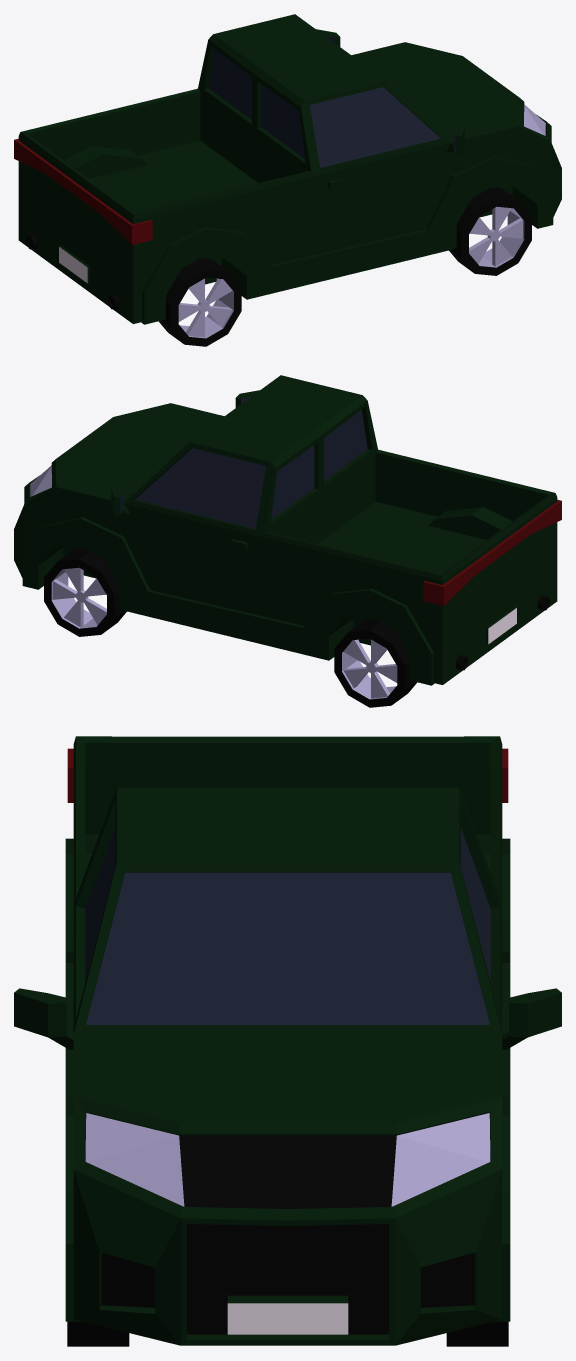
File: pickup.glb
3 renders of one model, top to bottom at view 1: azimuth 30°, elevation 25°; view 2: azimuth 150°, elevation 25°; view 3: azimuth 270°, elevation 25°, orthographic. The views are drawn at different scales.
Visible parts, largest first — view 1: body_paint, body_glass, wheel_fr_tire (×2), wheel_rr_tire (×2), body_tail, wheel_rr_rim (×2), wheel_fr_rim, body_chrome; view 2: body_paint, body_glass, wheel_fl_tire (×2), wheel_rl_tire (×2), body_tail, wheel_rl_rim (×2), wheel_fl_rim, body_chrome; view 3: body_paint, body_glass, body_trim, body_lamp, body_chrome, wheel_fr_tire, wheel_fl_tire, body_tail.
Part boxes in pixels (x1,y1,x2,y2): body_paint: [18, 14, 561, 324]; body_glass: [208, 35, 455, 167]; wheel_fr_tire (×2): [449, 187, 531, 275]; wheel_rr_tire (×2): [159, 258, 241, 346]; body_tail: [14, 138, 152, 244]; wheel_rr_rim (×2): [178, 278, 233, 338]; wheel_fr_rim: [469, 206, 524, 267]; body_chrome: [59, 247, 87, 283]; body_paint: [14, 375, 557, 685]; body_glass: [120, 396, 367, 528]; wheel_fl_tire (×2): [44, 548, 126, 636]; wheel_rl_tire (×2): [334, 619, 416, 707]; body_tail: [423, 499, 561, 605]; wheel_rl_rim (×2): [342, 639, 397, 699]; wheel_fl_rim: [51, 567, 106, 628]; body_chrome: [488, 608, 516, 644]; body_paint: [14, 736, 561, 1345]; body_glass: [85, 828, 490, 1024]; body_trim: [101, 1135, 474, 1334]; body_lamp: [85, 1113, 490, 1206]; body_chrome: [227, 1303, 348, 1334]; wheel_fr_tire: [67, 1321, 129, 1346]; wheel_fl_tire: [446, 1321, 508, 1346]; body_tail: [67, 748, 508, 802].
Bounding box in the file's own units: 5.04 × 2.21 × 2.81.
